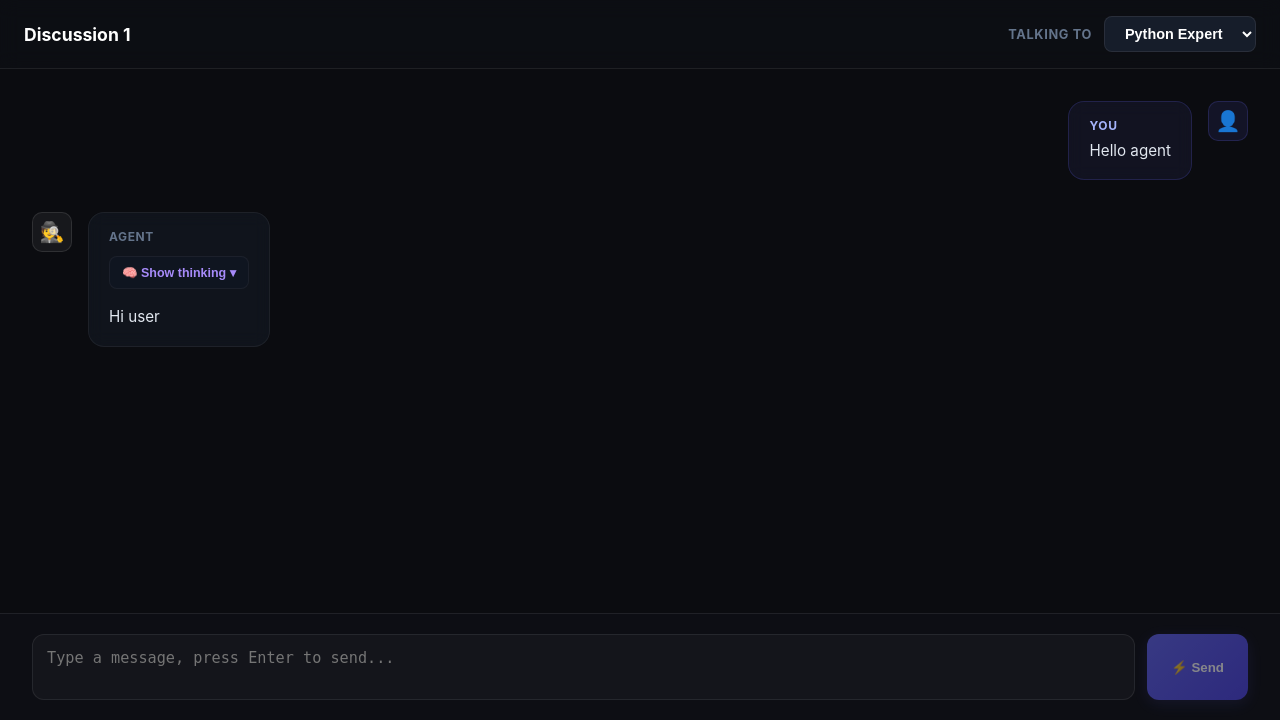
ChatPage › toggles thinking trace folded drawer
expect the text "Hi user" is shown: met, box [109,307,160,326]
Click the button "🧠 Show thinking ▾": (179, 273) [110,257,248,288]
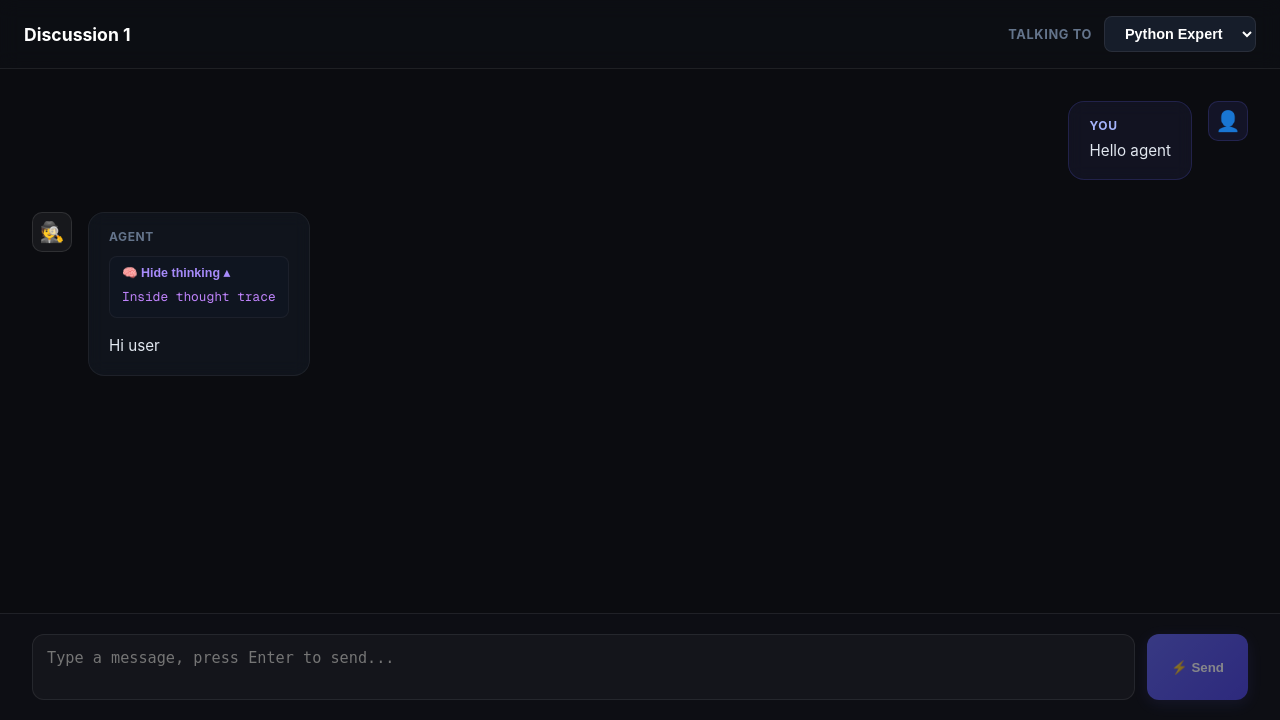
expect the text "Inside thought trace" is shown: met, box [122,288,276,305]
